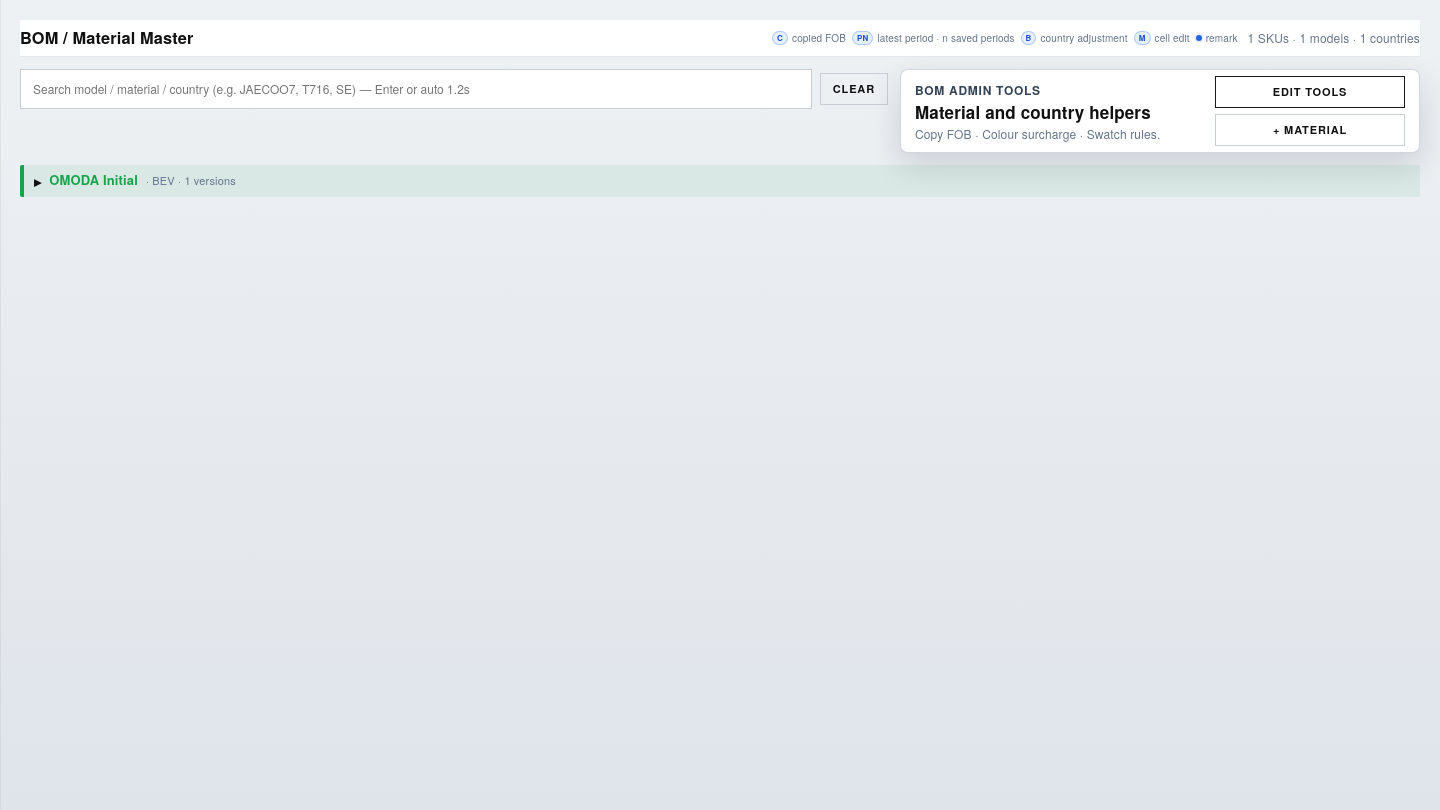
Test case: BOM Admin A load continuity › does not let a stale response paint over the newer search
The image size is (1440, 810).
Replace the text in the field with placeholder "Search model" with "alpha" at point(416, 89), box [20,69,812,109]
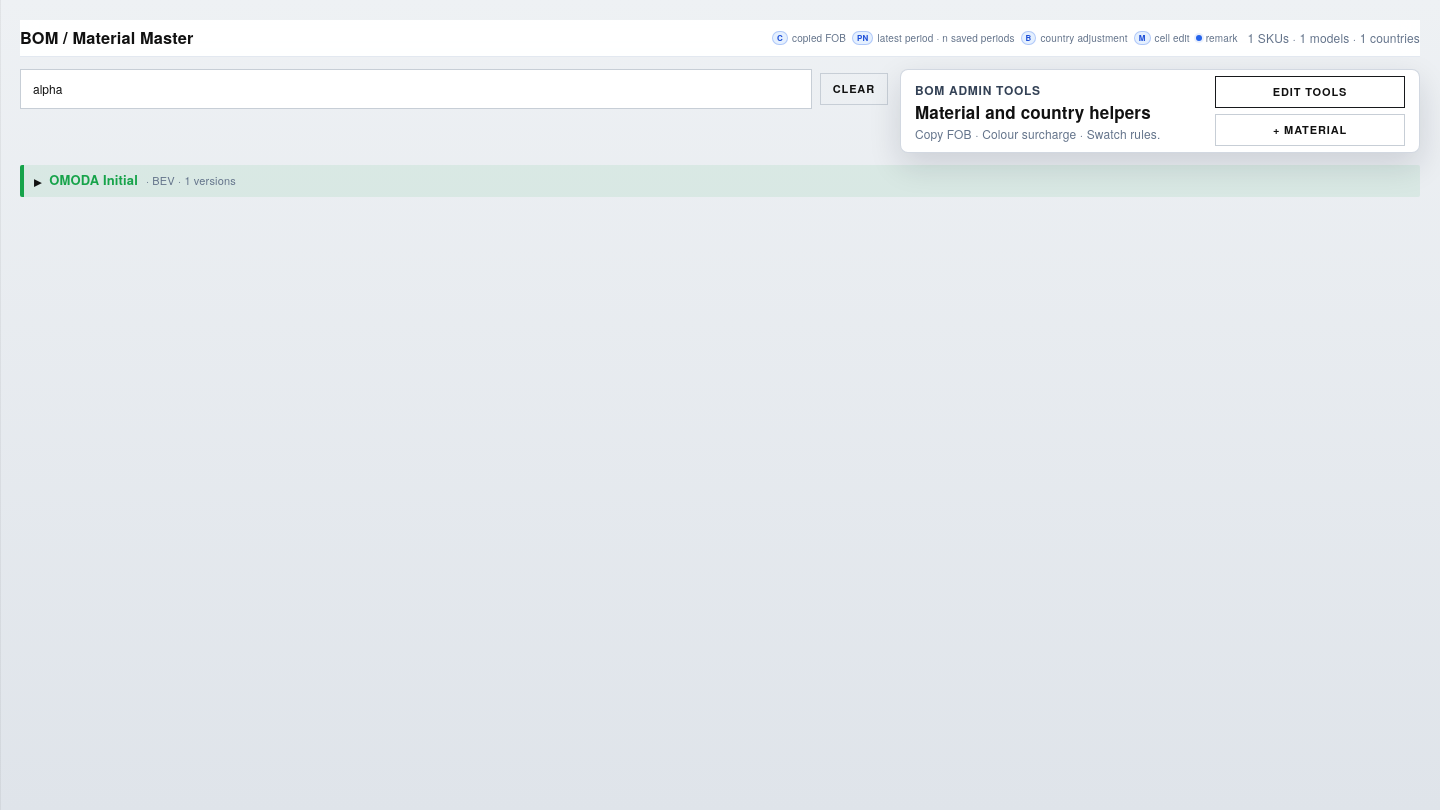
Press Enter in the field with placeholder "Search model", box [20,69,812,109]
Replace the text in the field with placeholder "Search model" with "beta" at point(416, 89), box [20,69,812,109]
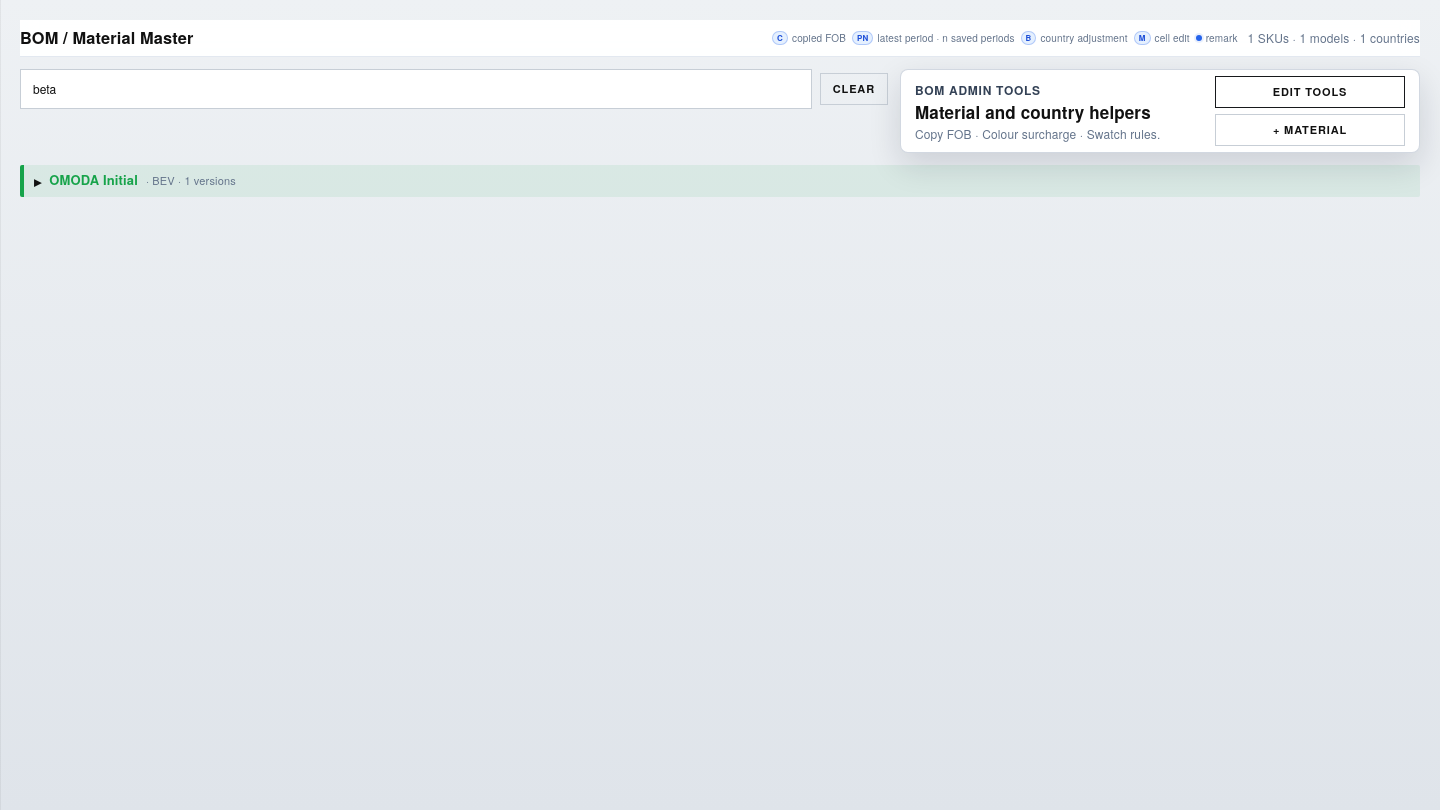
Press Enter in the field with placeholder "Search model", box [20,69,812,109]
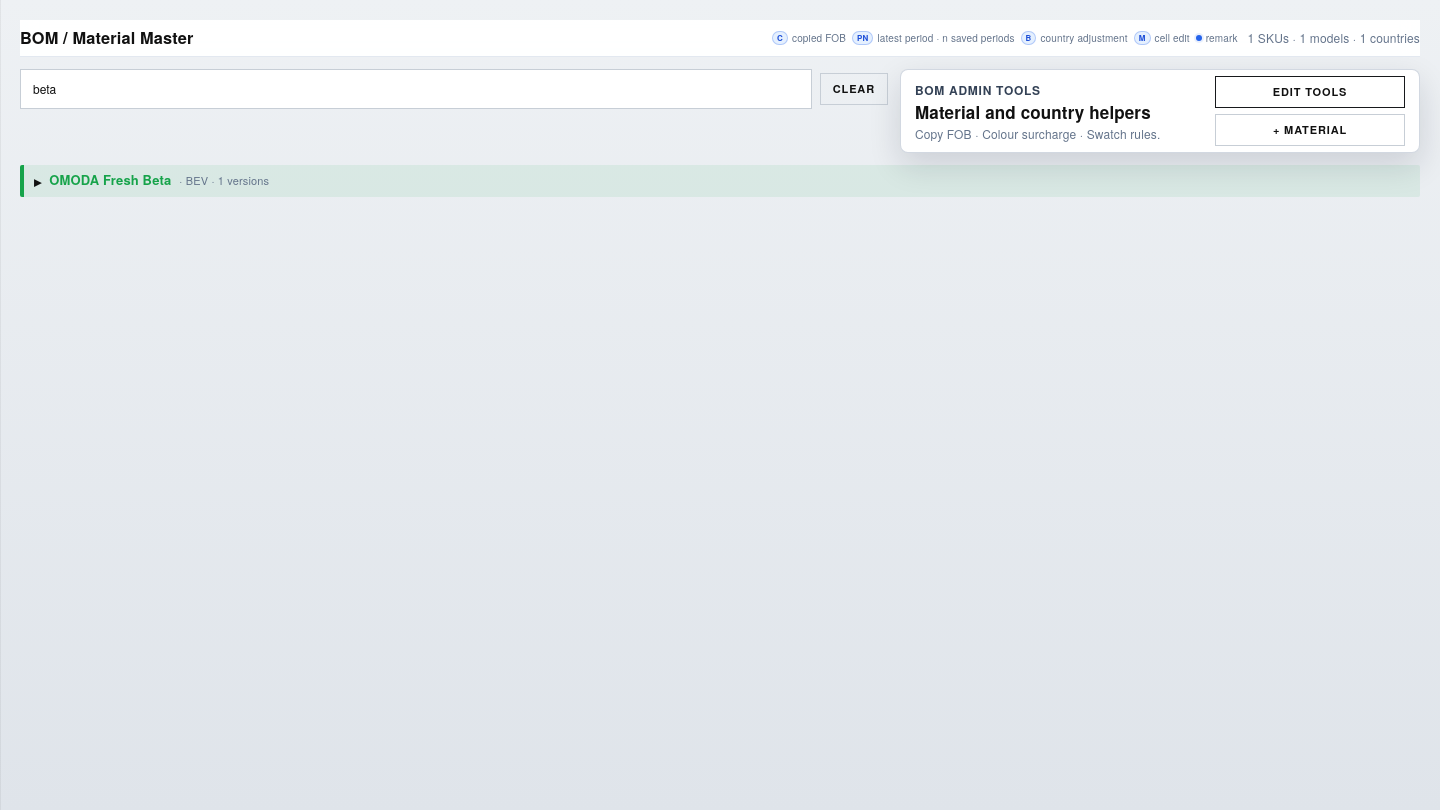
Expected: the text "Fresh Beta" is shown, [103,170,171,189]
